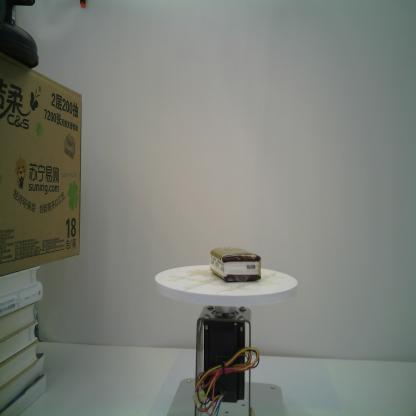Tissue: (210, 246, 261, 283)
